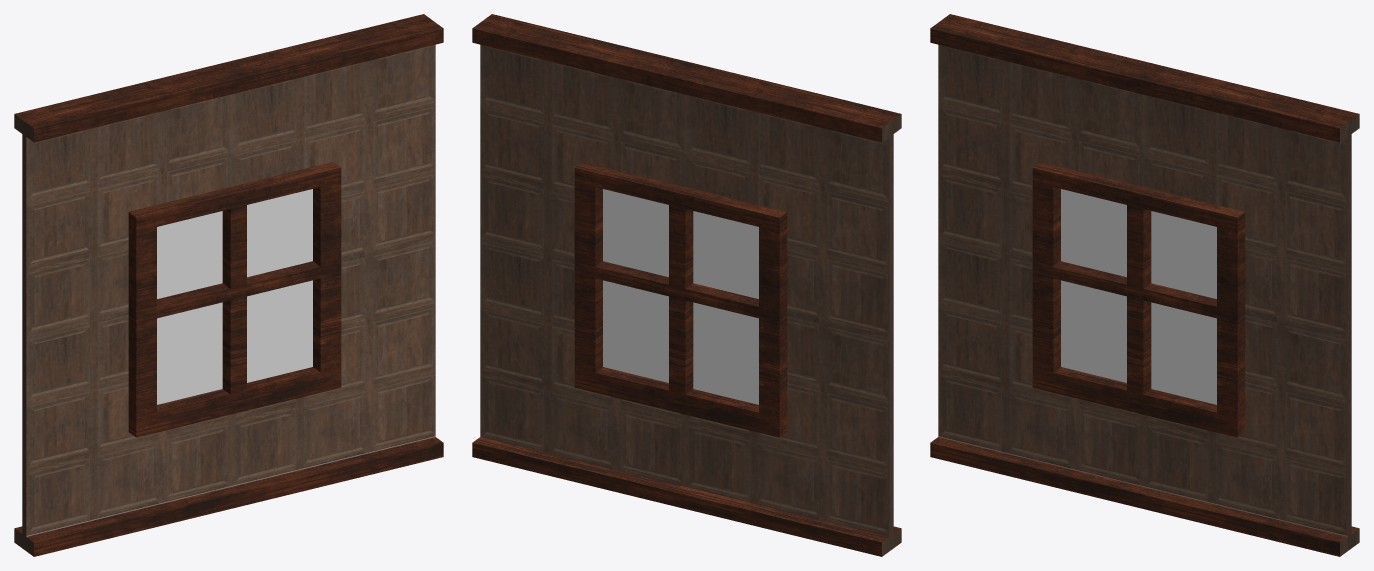
The model's file is Window.fbx.
3 renders of one model, left to right at view 1: azimuth 30°, elevation 25°; view 2: azimuth 150°, elevation 25°; view 3: azimuth 330°, elevation 25°, orthographic.
Parts seen in each view (by area): view 1: CORNER3; view 2: CORNER3; view 3: CORNER3.
Boxes of the visible parts, x1,y1,x2,y2 form: CORNER3: (14, 14, 443, 556); CORNER3: (472, 14, 901, 556); CORNER3: (930, 14, 1359, 556).
Bounding box in the file's own units: 300 × 300 × 25.
